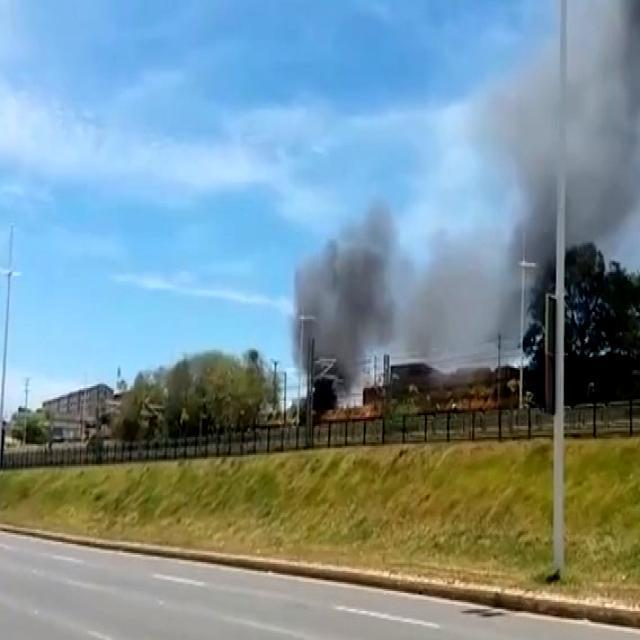Smoke: (477, 0, 640, 296), (289, 190, 417, 401)
